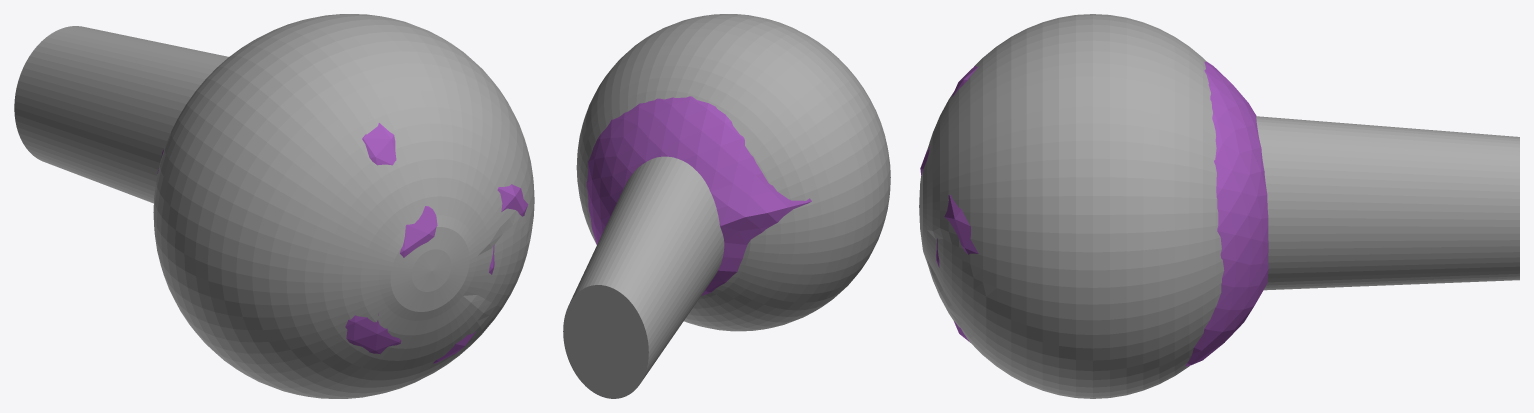
Rendered from G03_A2D_ALIGNED_GT.glb.
The picture shows the model from 3 angles, left to right: view 1: azimuth 30°, elevation 25°; view 2: azimuth 150°, elevation 25°; view 3: azimuth 270°, elevation 25°; orthographic projection. The views are drawn at different scales.
Visible parts, largest first — view 1: Independent_GT, A2D; view 2: Independent_GT, A2D; view 3: Independent_GT, A2D.
Part boxes in pixels (<box>): Independent_GT: <box>14,14,534,398</box>; A2D: <box>157,123,528,363</box>; Independent_GT: <box>563,14,890,398</box>; A2D: <box>586,96,811,296</box>; Independent_GT: <box>919,14,1519,398</box>; A2D: <box>920,61,1268,366</box>.
Bounding box in the file's own units: 0.02 × 0.02 × 0.0312.
